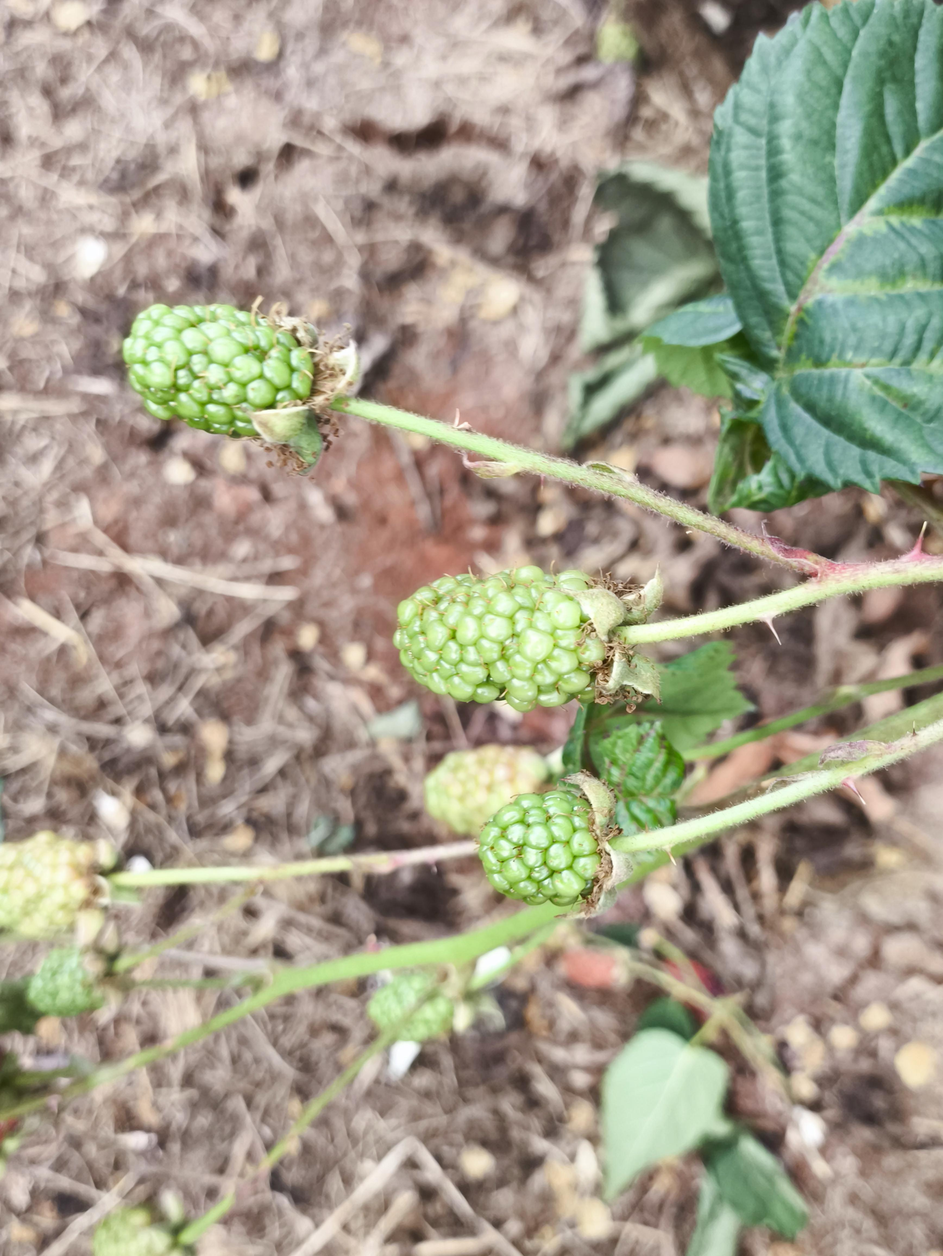verde: (394, 567, 644, 712), (122, 305, 318, 438), (479, 789, 601, 906), (424, 744, 549, 836)
